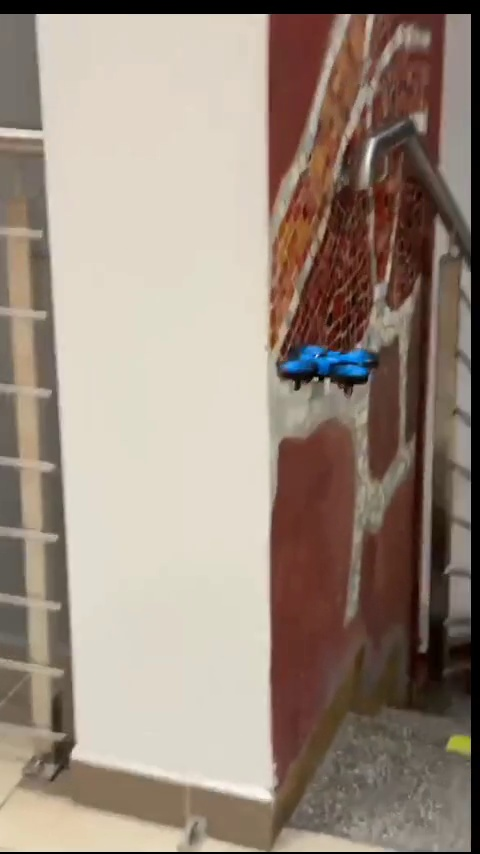drone: (274, 349, 382, 388)
